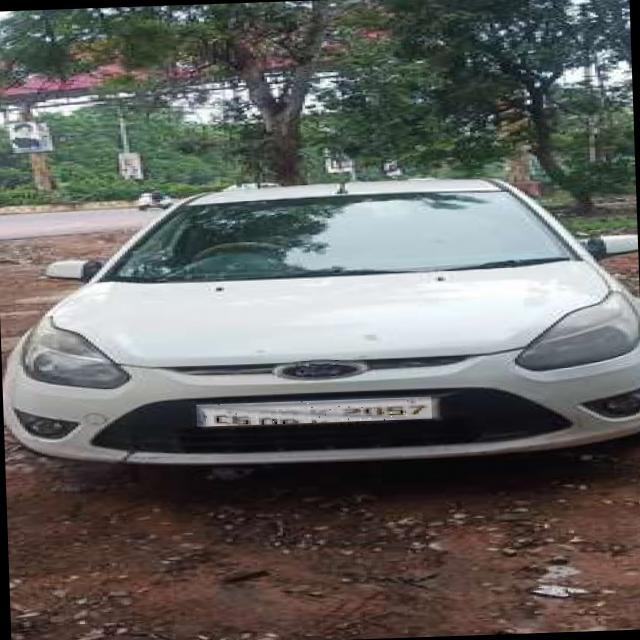Plate: (197, 398, 433, 428)
